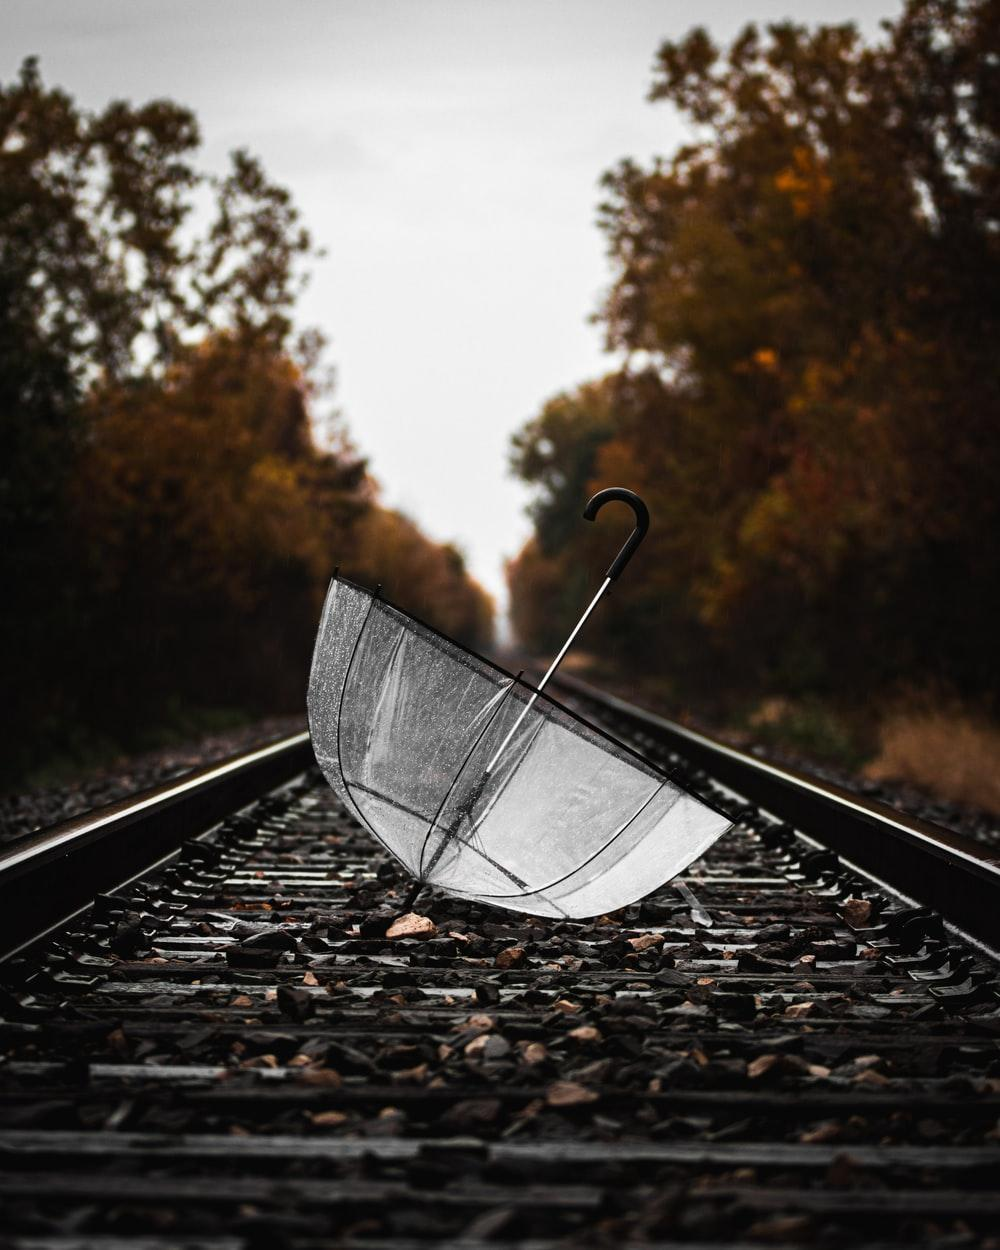Umbrella: (248, 470, 807, 943)
